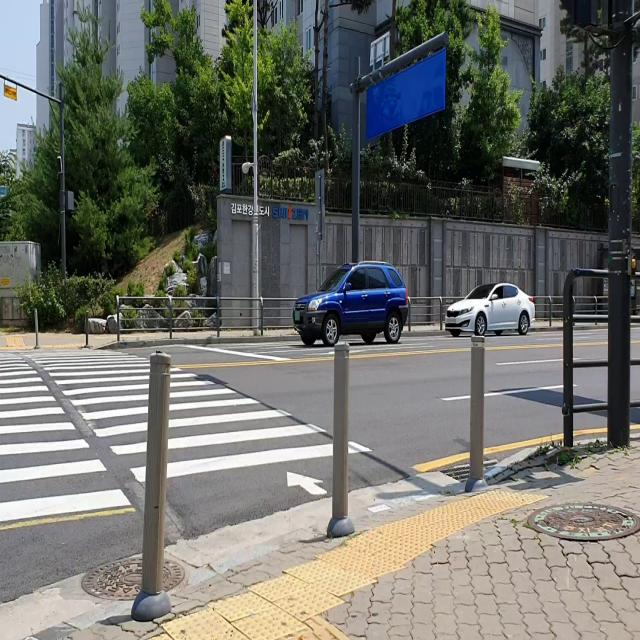횡단보도: (0, 347, 375, 527)
